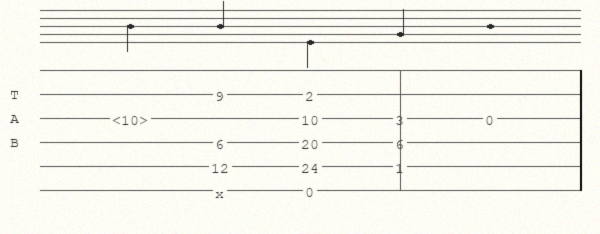0: (305, 184, 318, 197), (485, 112, 498, 125)
1: (395, 160, 408, 173)
10: (301, 112, 323, 125)
12: (211, 160, 233, 173)
2: (305, 88, 318, 101)
20: (301, 136, 323, 149)
24: (301, 160, 323, 173)
3: (395, 112, 408, 125)
6: (215, 136, 228, 149), (395, 136, 408, 149)
9: (215, 88, 228, 101)
harmonic: (112, 112, 152, 125)
x: (215, 185, 228, 195)
